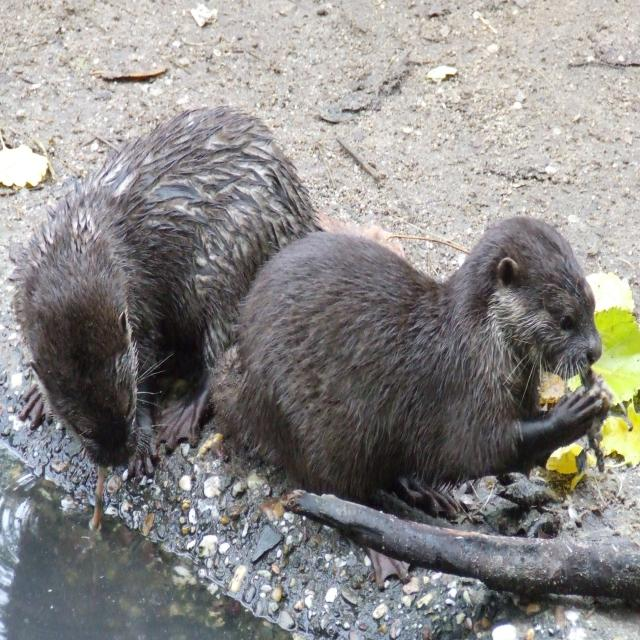otter: (219, 217, 609, 490), (21, 106, 308, 468)
